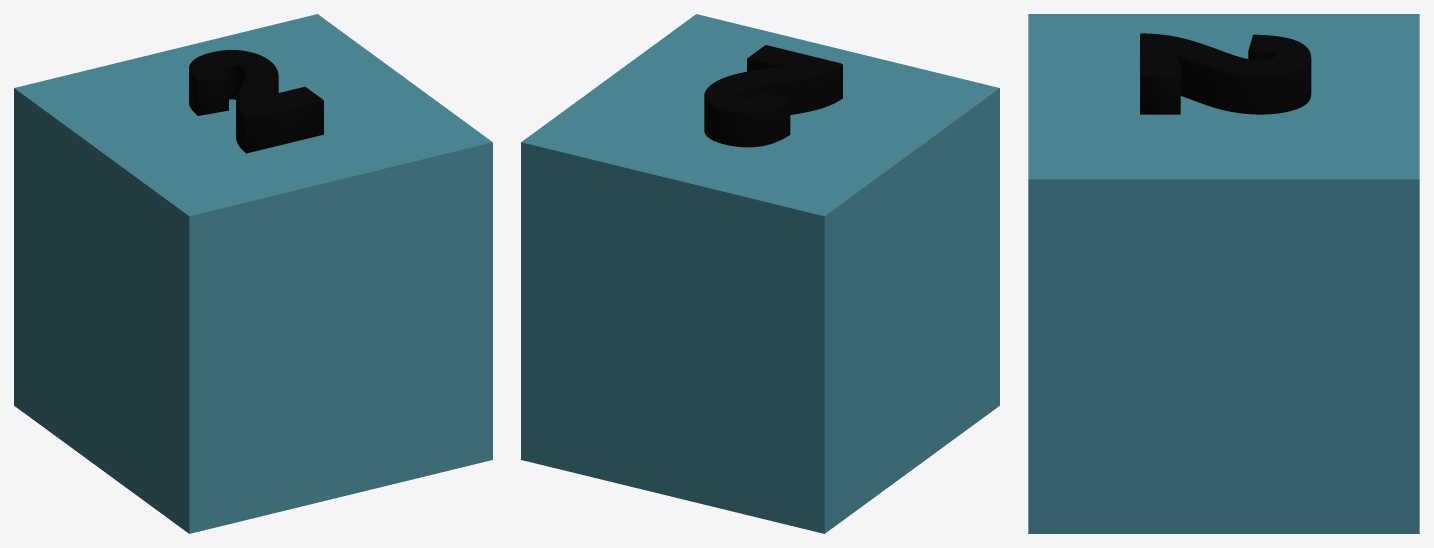
The model's file is level2.fbx.
3 renders of one model, left to right at view 1: azimuth 30°, elevation 25°; view 2: azimuth 150°, elevation 25°; view 3: azimuth 270°, elevation 25°, orthographic. The views are drawn at different scales.
Parts seen in each view (by area): view 1: Text; view 2: Text; view 3: Text.
Boxes of the visible parts, bbox=[...] form: Text: bbox=[14, 14, 492, 533]; Text: bbox=[521, 14, 999, 533]; Text: bbox=[1028, 14, 1419, 533].
Bounding box in the file's own units: 200 × 223 × 200.
